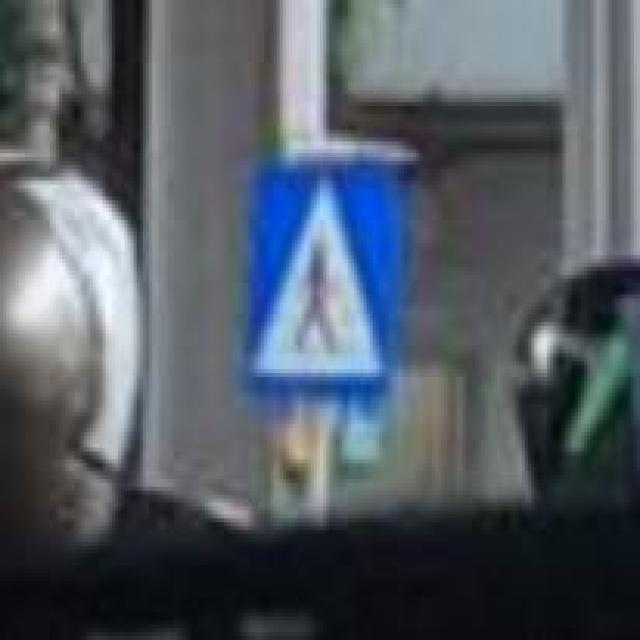traffic sign: (252, 157, 395, 408)
